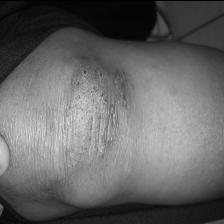liken simpleks kronis: (54, 49, 136, 171)
